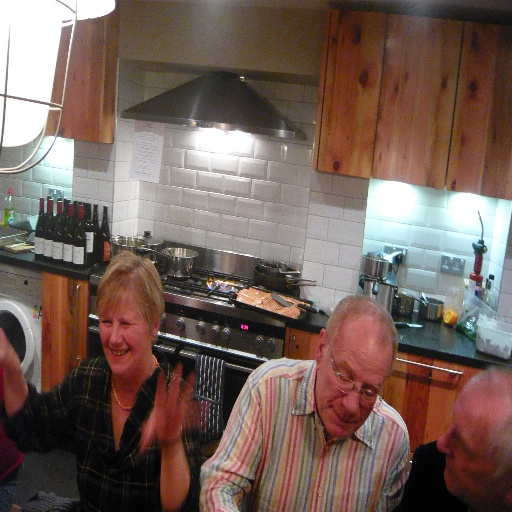hand: (145, 373, 184, 463), (0, 326, 16, 376)
